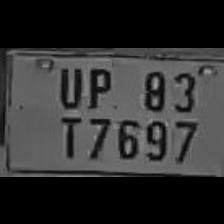3: (168, 64, 198, 112)
6: (113, 113, 140, 158)
7: (168, 114, 198, 162), (82, 112, 110, 160)
8: (138, 66, 168, 110)
9: (142, 116, 166, 160)
P: (81, 60, 113, 108)
T: (52, 111, 82, 159)
U: (52, 60, 84, 108)
